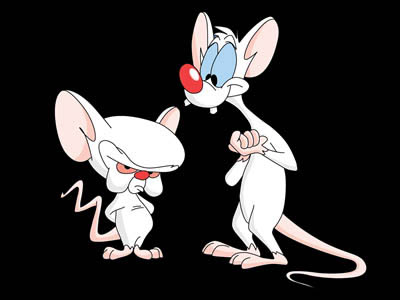cerebro: (38, 79, 185, 279)
pink: (171, 9, 372, 292)
